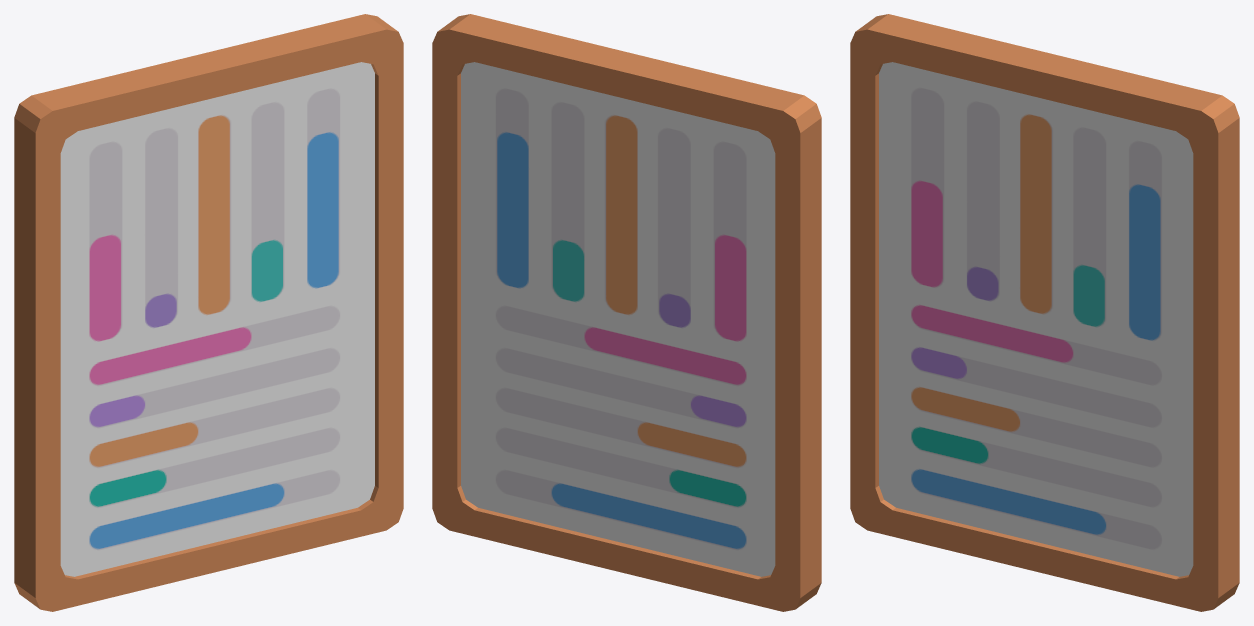
Rendered from Props_Poster_08.fbx.
3 views of the same model, side by side, from view 1: azimuth 30°, elevation 25°; view 2: azimuth 150°, elevation 25°; view 3: azimuth 330°, elevation 25° (orthographic).
Parts seen in each view (by area): view 1: Props_Poster_08; view 2: Props_Poster_08; view 3: Props_Poster_08.
Boxes of the visible parts, x1,y1,x2,y2 form: Props_Poster_08: (14, 14, 403, 611); Props_Poster_08: (432, 14, 821, 611); Props_Poster_08: (850, 14, 1239, 611).
Bounding box in the file's own units: 100 × 130 × 10.
